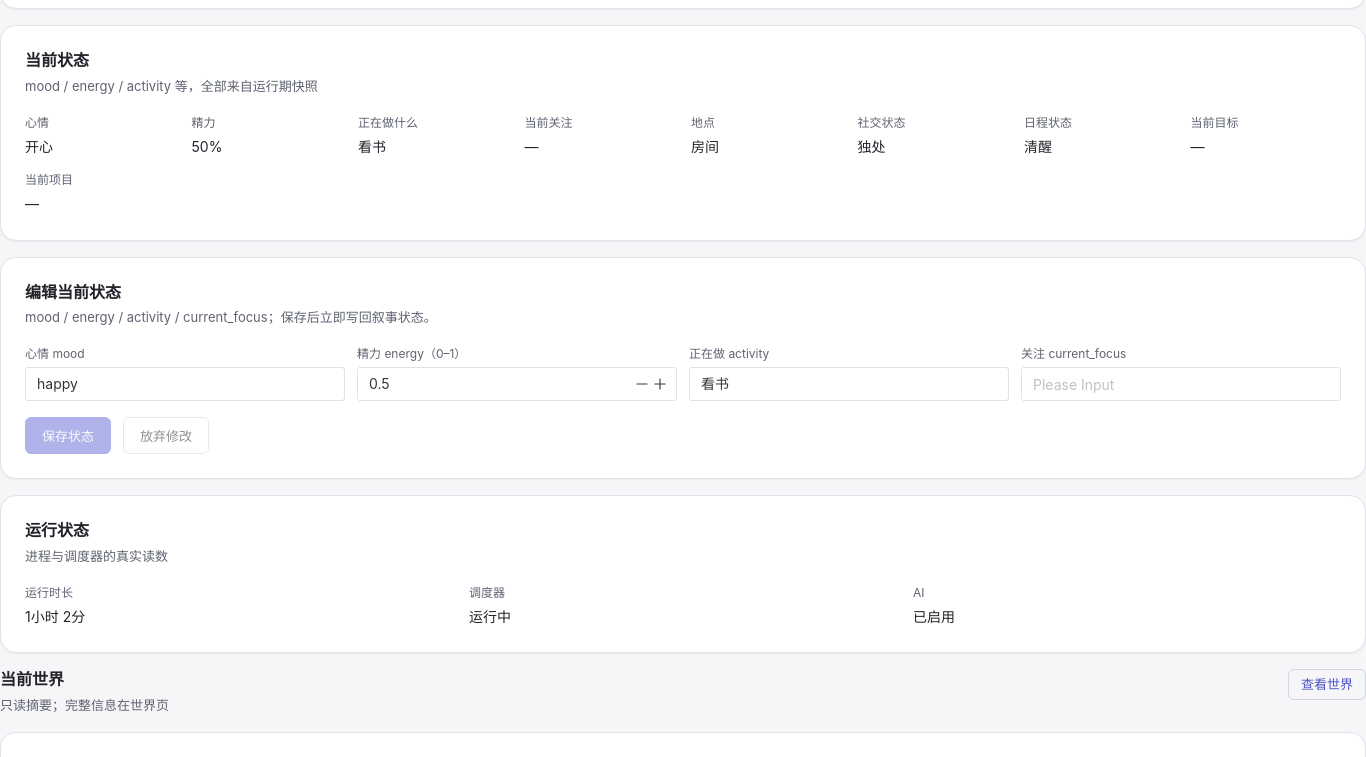
Test: Character 页 › 状态保存失败时展示错误并保留草稿
(page scrolled)
Replace the text in the field labelled "正在做 activity" with "出门" at (849, 384), box [701,367,997,401]
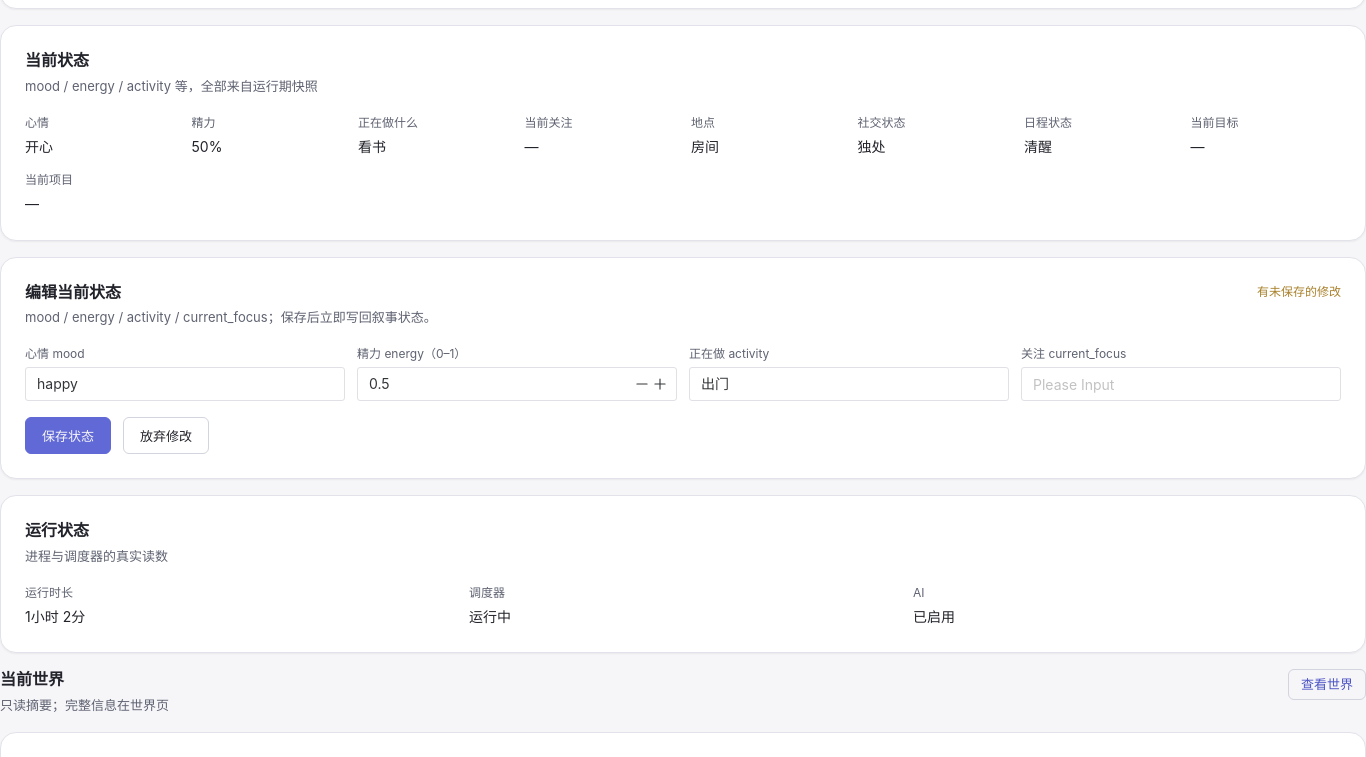
Click the button with test id "state-save" at (68, 436), box [25,417,111,454]
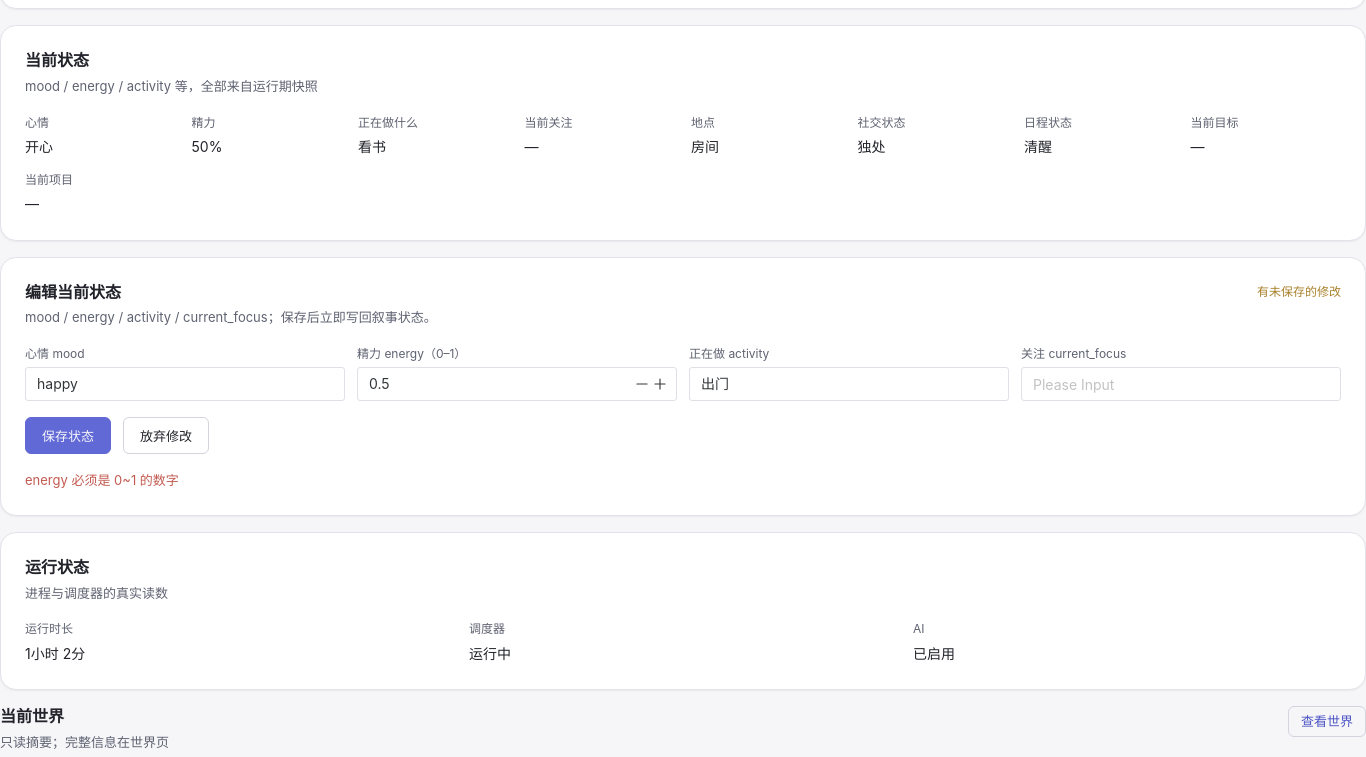
Now the message with test id "state-save-error" reads "energy 必须是 0~1 的数字", box [25,472,179,488]
